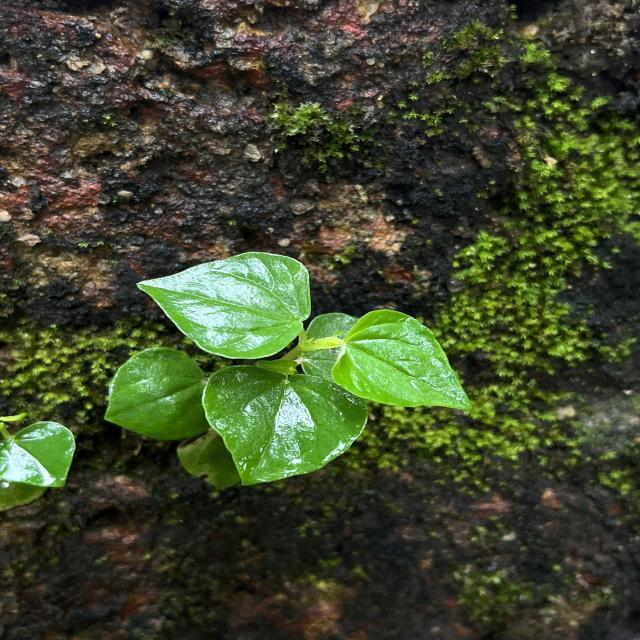Peperomia pellucida: (199, 364, 370, 487), (136, 250, 312, 362), (329, 308, 475, 412)
